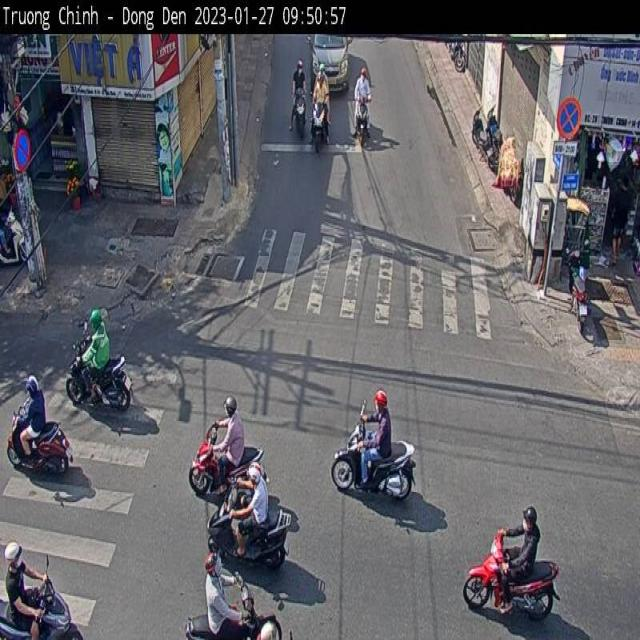with_helmet: (370, 379, 396, 432), (222, 389, 243, 432), (251, 443, 270, 488), (292, 55, 307, 82), (356, 65, 369, 88), (317, 68, 330, 88)
